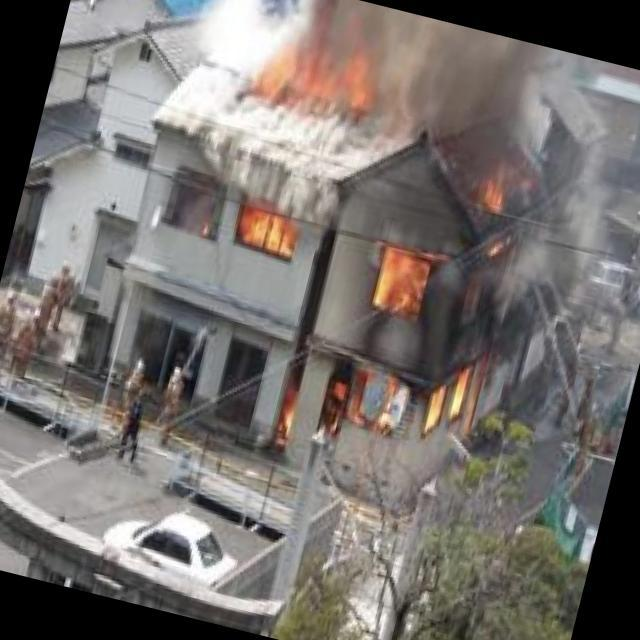Fire: (308, 143, 556, 489), (248, 1, 402, 133), (220, 195, 310, 271)
